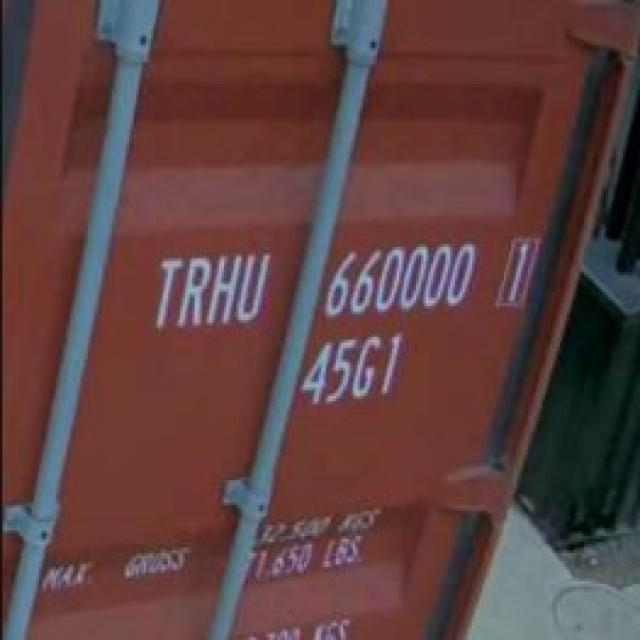dv: (496, 235, 538, 314)
owner: (138, 245, 273, 333)
serial: (321, 239, 482, 321)
size: (296, 327, 406, 410)
